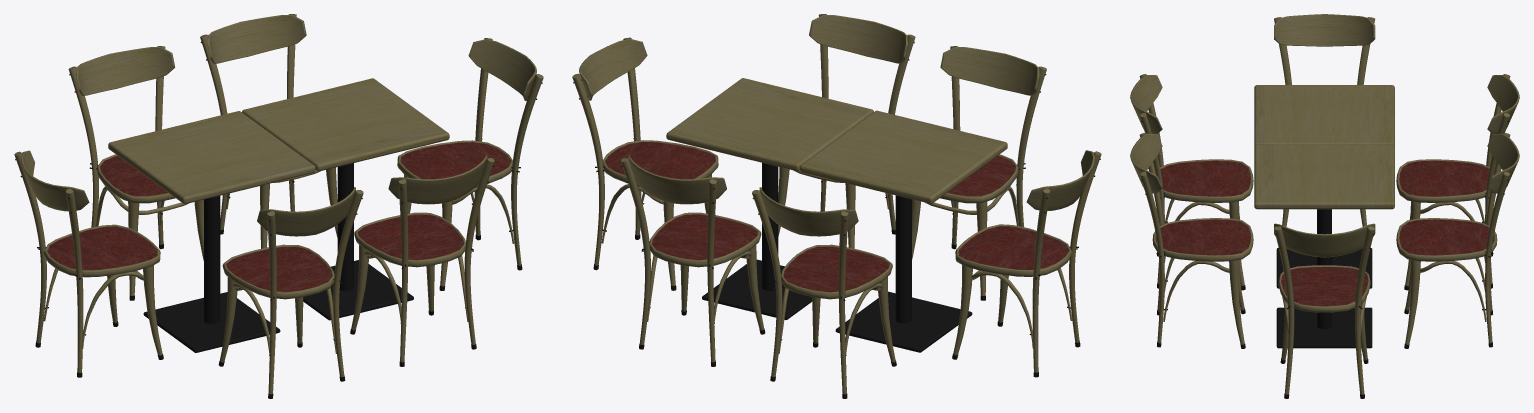
The model's file is interior_asset_3d_wooden_chair_set.glb.
3 views of the same model, side by side, from view 1: azimuth 30°, elevation 25°; view 2: azimuth 150°, elevation 25°; view 3: azimuth 270°, elevation 25° (orthographic). The views are drawn at different scales.
Parts seen in each view (by area): view 1: table2, table1, chair8, chair10, chair11, chair12, chair7, chair9; view 2: table2, table1, chair7, chair9, chair11, chair12, chair8, chair10; view 3: table1, table2, chair12, chair9, chair10, chair7, chair8, chair11.
Boxes of the visible parts, x1,y1,x2,y2 form: table2: (108, 111, 315, 352); table1: (242, 78, 449, 320); chair8: (218, 187, 363, 398); chair10: (350, 155, 494, 366); chair11: (14, 150, 163, 377); chair12: (397, 38, 543, 290); chair7: (68, 46, 203, 300); chair9: (200, 14, 337, 248); table2: (800, 110, 1007, 352); table1: (666, 78, 873, 319); chair7: (752, 187, 896, 398); chair9: (620, 155, 765, 366); chair11: (952, 150, 1101, 377); chair12: (572, 37, 718, 290); chair8: (912, 46, 1046, 300); chair10: (778, 14, 915, 248); table1: (1254, 144, 1394, 348); table2: (1254, 85, 1394, 288); chair12: (1274, 223, 1375, 398); chair9: (1396, 132, 1519, 348); chair10: (1130, 132, 1253, 348); chair7: (1396, 74, 1519, 290); chair8: (1130, 74, 1253, 290); chair11: (1274, 14, 1375, 226).
Bounding box in the file's own units: 2.72 × 1.03 × 2.03.
Materials: 6 (6 with a texture image).
